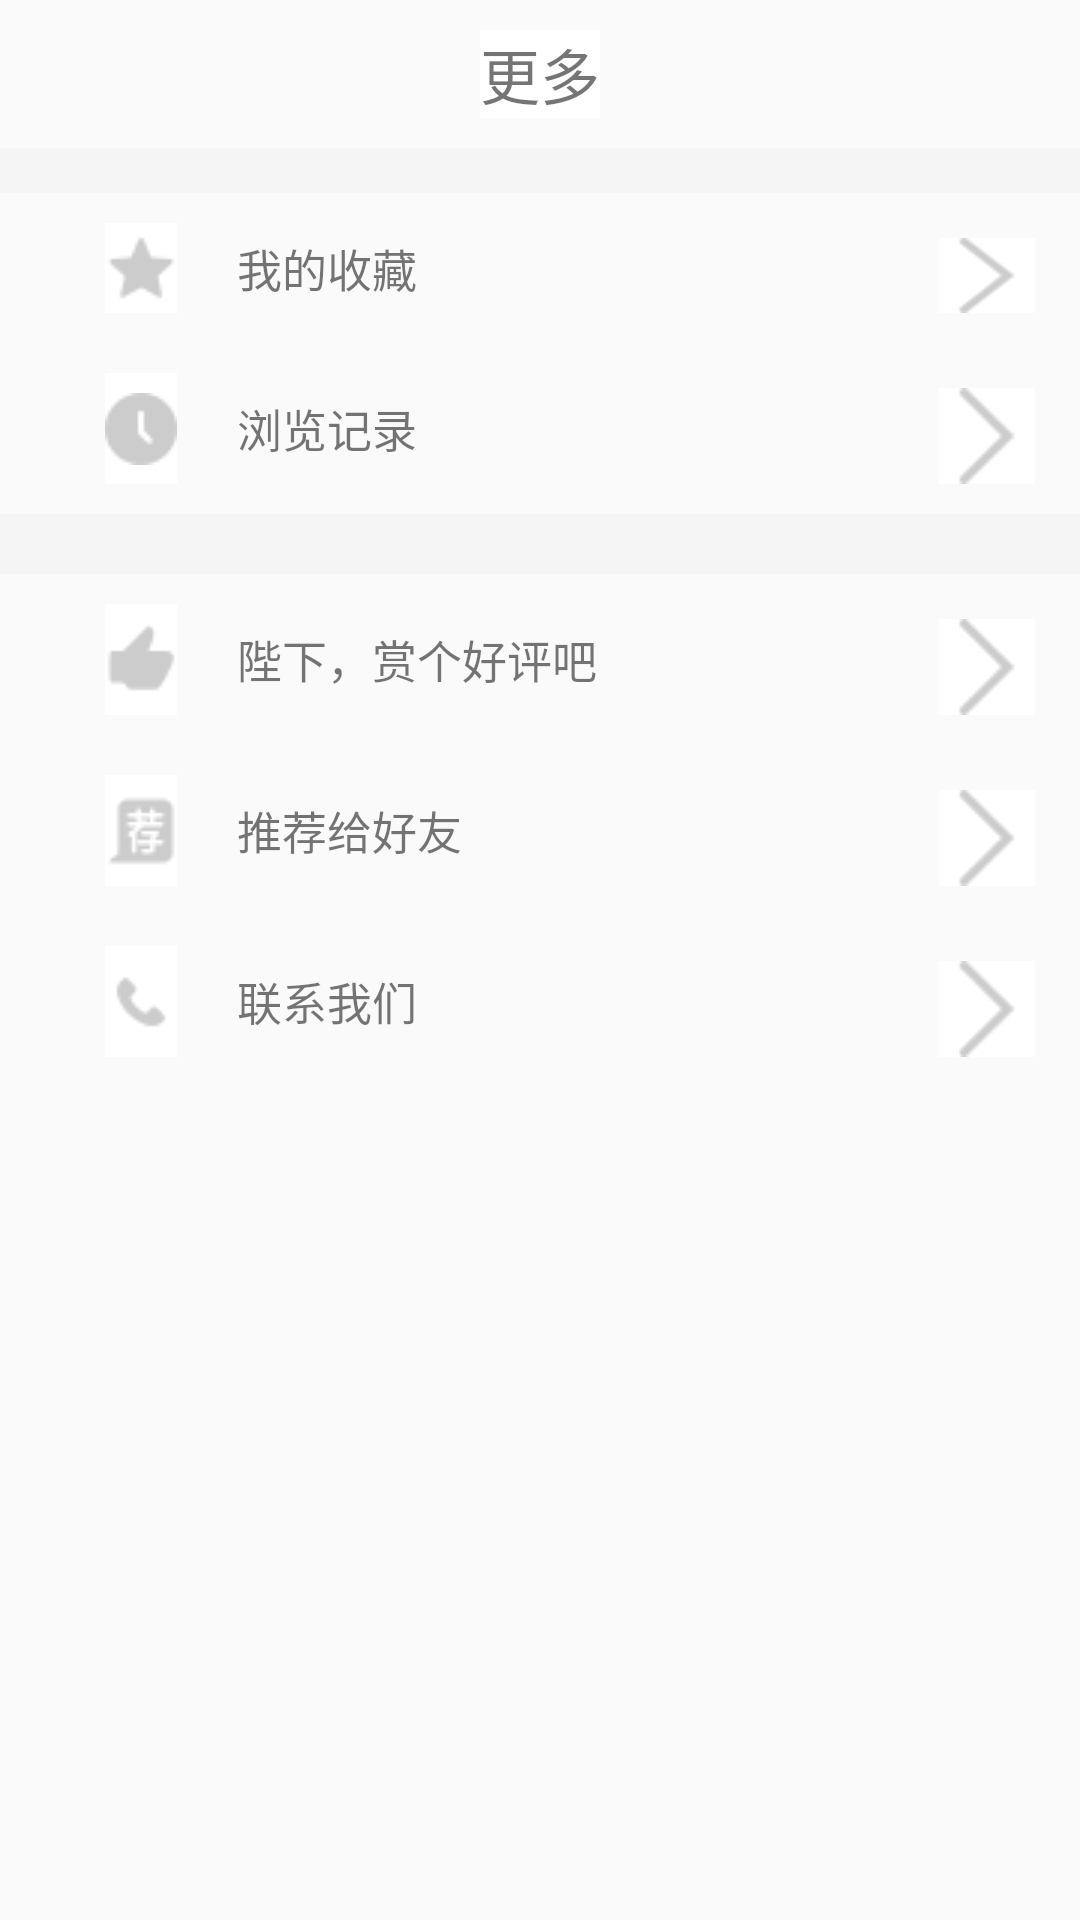

Icons on this 1080px×1920px Android screen, each with the point to tap as (x,y):
collection: (141,267)
contact: (141,1002)
good: (141,658)
history: (141,429)
next: (986,275), (986,436), (986,667), (986,838), (986,1009)
